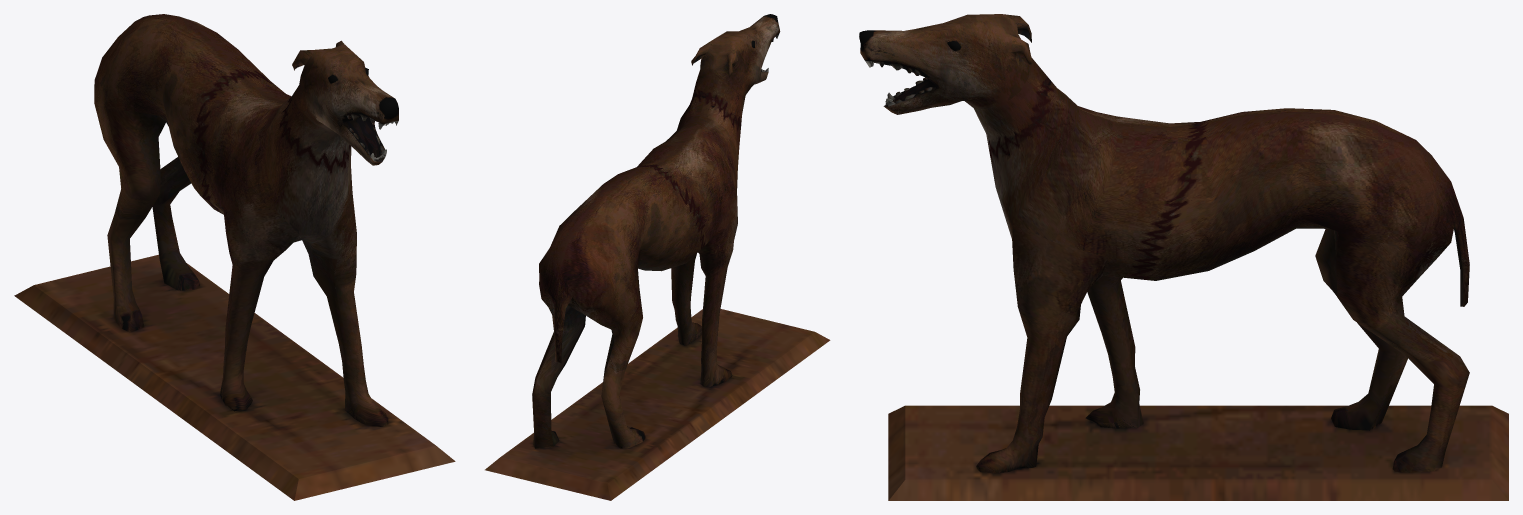
File: stuffed_dog.dae
3 views of the same model, side by side, from view 1: azimuth 30°, elevation 25°; view 2: azimuth 150°, elevation 25°; view 3: azimuth 270°, elevation 25° (orthographic). The views are drawn at different scales.
Parts seen in each view (by area): view 1: polySurface44; view 2: polySurface44; view 3: polySurface44.
Boxes of the visible parts, box(x1,y1,x2,y2) form: polySurface44: box(14, 14, 455, 500); polySurface44: box(485, 14, 830, 500); polySurface44: box(859, 14, 1508, 500).
Bounding box in the file's own units: 0.5433 × 1.28 × 1.71.
